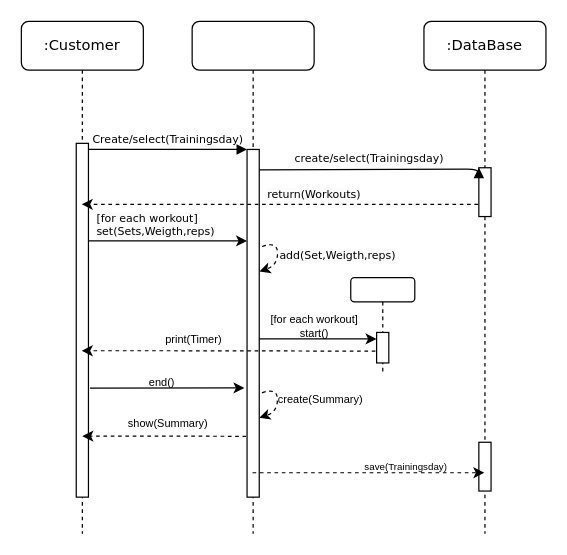
Image size: 567x555. Some labels were removed from this diagram. Each missing label, with the box of its shape:
:Order: (191, 20, 314, 534)
:Timer: (350, 276, 415, 375)
